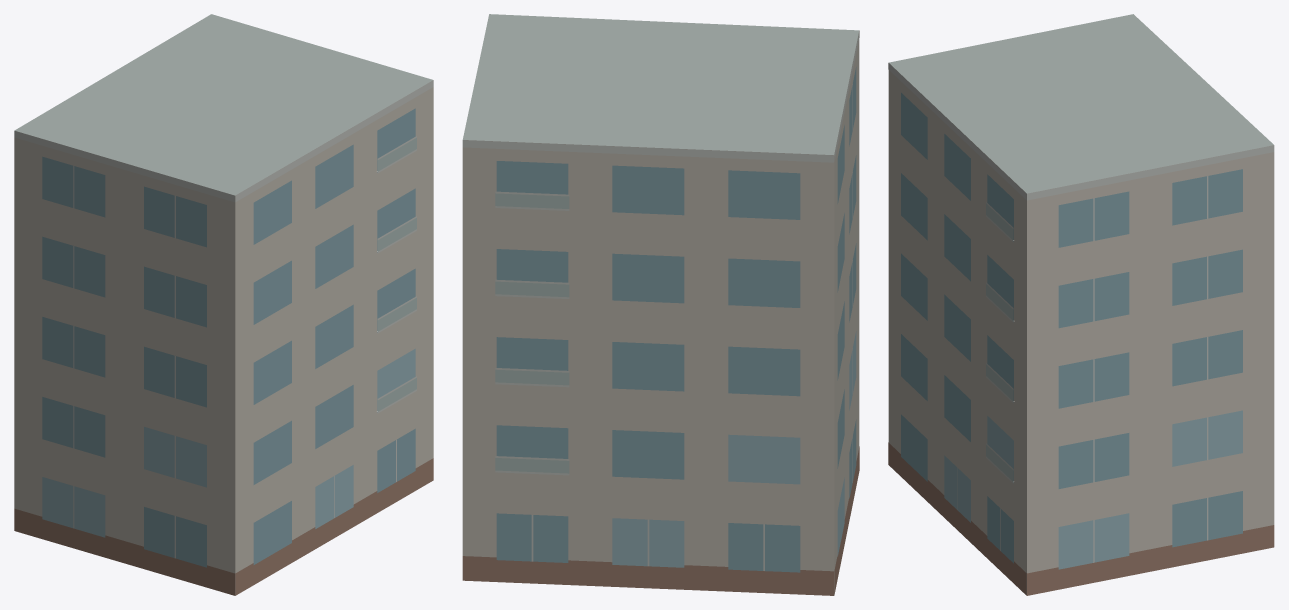
The model's file is survey-upis-32933716.glb.
The picture shows the model from 3 angles, left to right: view 1: azimuth 30°, elevation 25°; view 2: azimuth 150°, elevation 25°; view 3: azimuth 270°, elevation 25°; orthographic projection. The views are drawn at different scales.
Visible parts, largest first — view 1: survey-upis-32933716.tmp; view 2: survey-upis-32933716.tmp; view 3: survey-upis-32933716.tmp.
Boxes of the visible parts, x1,y1,x2,y2 form: survey-upis-32933716.tmp: (14, 14, 433, 595); survey-upis-32933716.tmp: (462, 14, 859, 595); survey-upis-32933716.tmp: (888, 14, 1274, 595).
Size of the model in its own units: 13.61 by 14.2 by 12.36.
